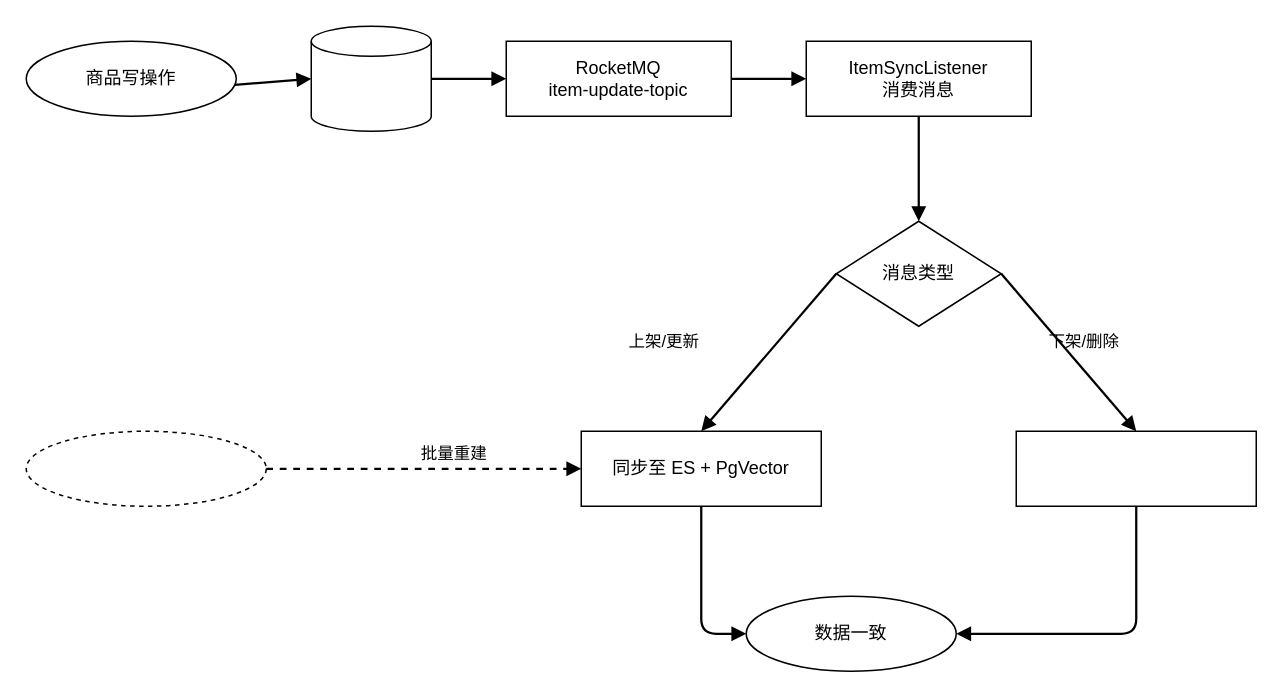
The diagram is 1283 pixels wide and 698 high, and some of its shapes have lost their labels. The shapes that lost their labels are listed below. From the top down, each one's centre as x and y in pixels, then its label:
(370,78): MySQL
(145,468): 全量补偿 syncAllToEs
(1135,468): 从 ES + PgVector 删除
